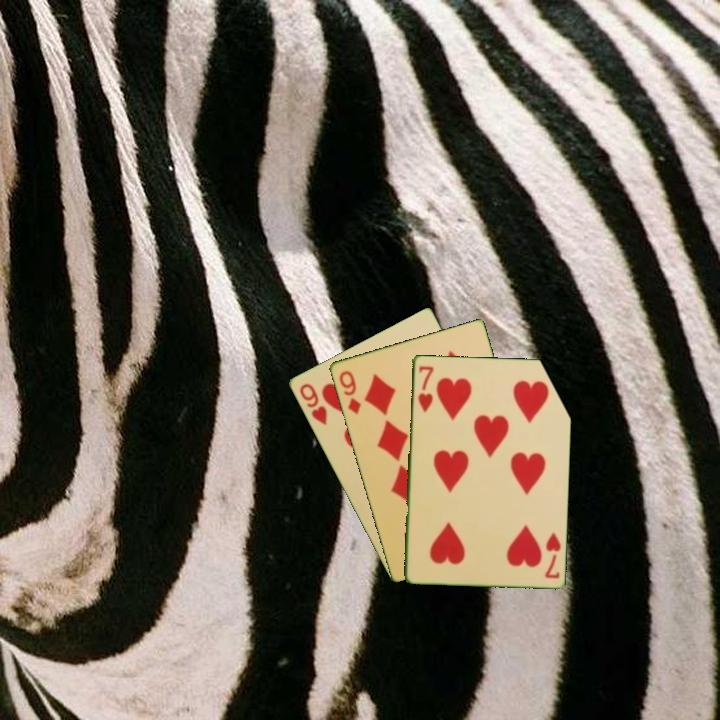7h: (414, 362, 436, 415), (541, 529, 563, 581)
9d: (335, 367, 364, 417)
9h: (296, 379, 330, 428)
